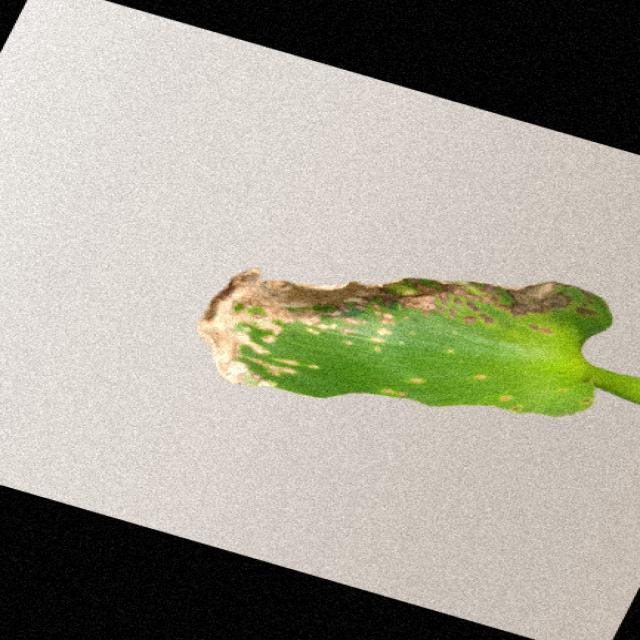daun berpenyakit bercak: (200, 269, 638, 416)
